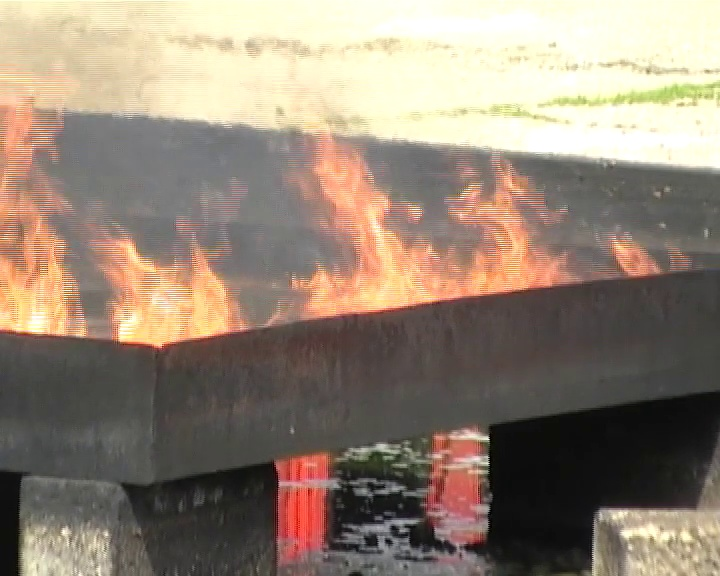fire: (285, 111, 571, 328), (2, 107, 87, 339), (96, 234, 237, 344), (609, 231, 657, 275)
